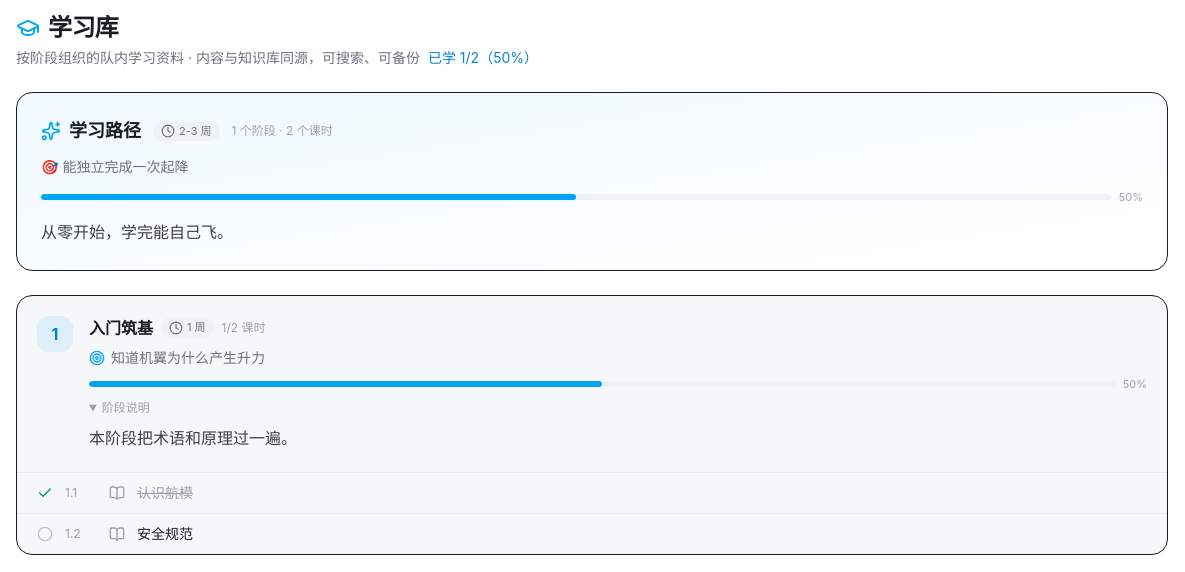
学习库页 › 已完成的课时可以取消勾选
Expected: the text "1/2 课时" is shown, [222,320,266,336]
What coordinates should you click on to do the following:
click the button named "取消完成 认识航模"
I would click on:
 (45, 493)
Its box is [37,485,53,501].
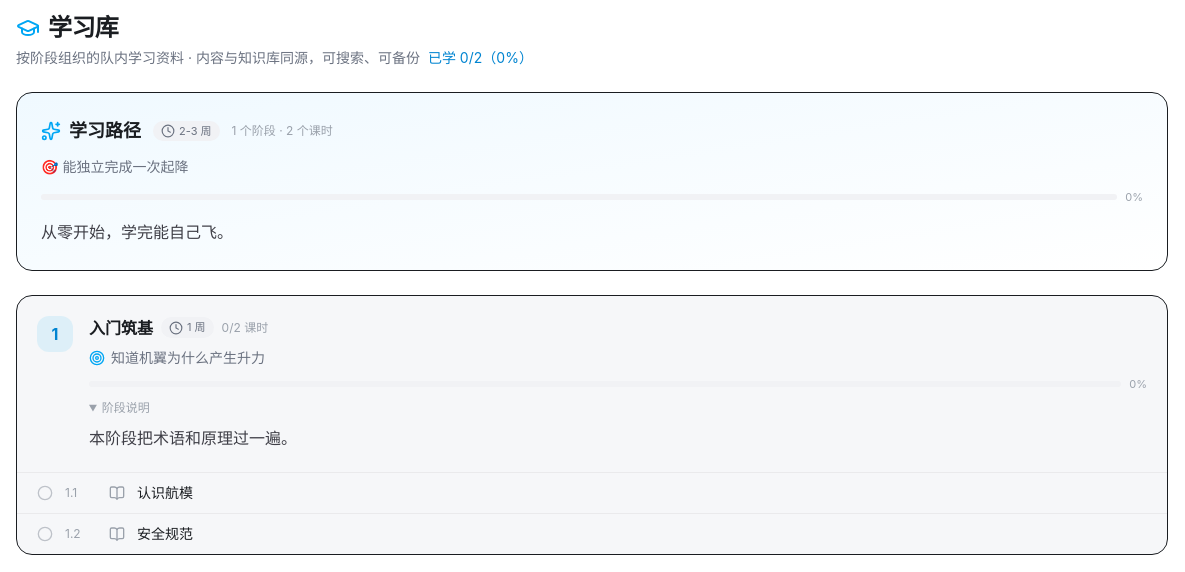
Expected: the text "0/2 课时" is shown, [222,320,268,336]
